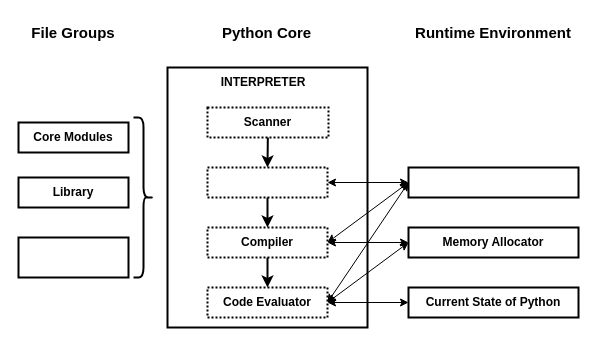
This 596x345 diagram has some shape labels left out. The shapes that lost their labels are listed below. From the top down, each one's centre as x and y in pixels, then its label:
the point at 267,182: Parser
the point at 493,182: Object/Type Structures
the point at 73,257: User-defined Modules
